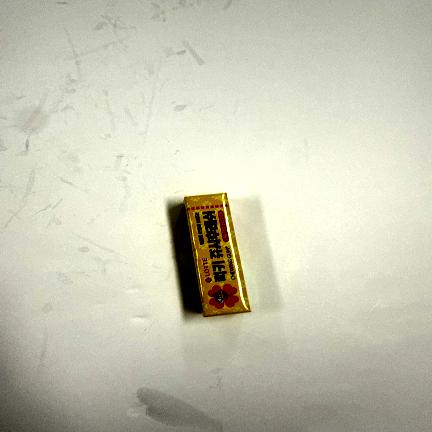gum_yellow: (186, 193, 251, 317)
